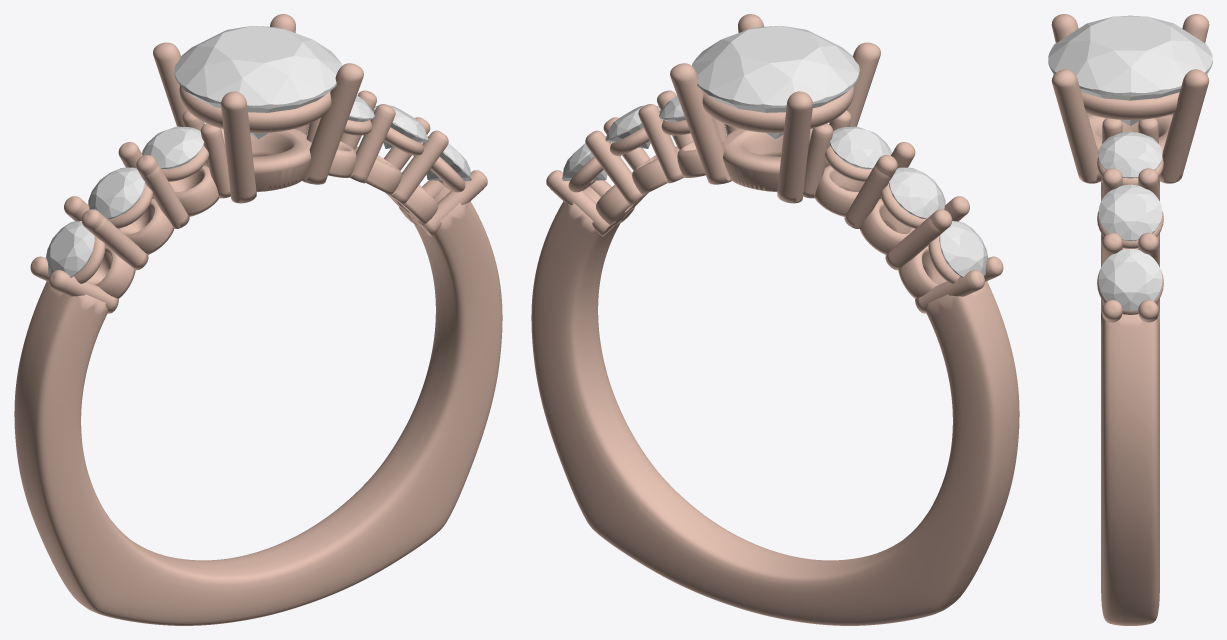
The model's file is diamond-round-rosegold-4prong-europeanshank-3stone.glb.
The picture shows the model from 3 angles, left to right: view 1: azimuth 30°, elevation 25°; view 2: azimuth 150°, elevation 25°; view 3: azimuth 270°, elevation 25°; orthographic projection. The views are drawn at different scales.
Parts seen in each view (by area): view 1: metal, stone, side, side.001, side.002, side.004, side.005; view 2: metal, stone, side, side.001, side.002, side.004, side.005; view 3: metal, stone, side.005, side.004, side.003.
Part boxes in pixels (x1,y1,x2,y2): metal: (14, 14, 502, 625); stone: (174, 25, 341, 139); side: (88, 167, 144, 219); side.001: (46, 221, 94, 277); side.002: (142, 126, 204, 169); side.004: (373, 105, 428, 148); side.005: (422, 136, 471, 180); metal: (531, 14, 1019, 625); stone: (692, 25, 859, 139); side: (889, 167, 945, 219); side.001: (939, 221, 987, 277); side.002: (829, 126, 891, 169); side.004: (605, 105, 660, 148); side.005: (562, 136, 611, 180); metal: (1051, 14, 1209, 625); stone: (1048, 15, 1212, 125); side.005: (1098, 248, 1162, 310); side.004: (1098, 184, 1162, 240); side.003: (1098, 131, 1162, 178).
Size of the model in its own units: 20.71 by 23.81 by 6.44.
